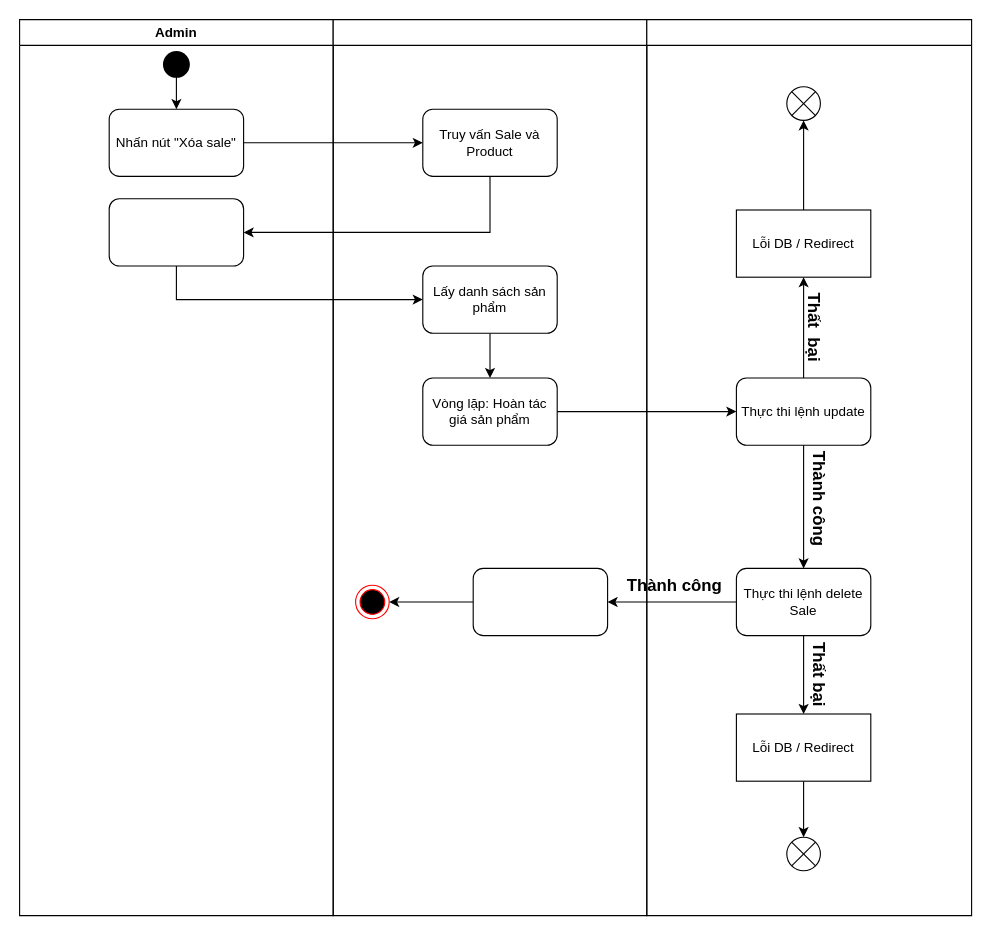
Some shapes in this 991 by 935 pixel diagram are drawn without their labels. The box of each missing label's shape, as (x1, y1, x2, y2) in pixels:
Database: (646, 18, 972, 916)
Nhấn nút "Xác nhận xóa": (108, 198, 244, 266)
Quay lại trang quản lí Sale: (472, 567, 608, 636)
System: (332, 18, 647, 916)
